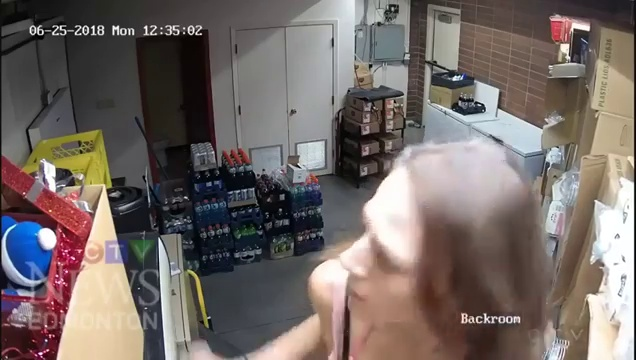face: (338, 198, 430, 324)
